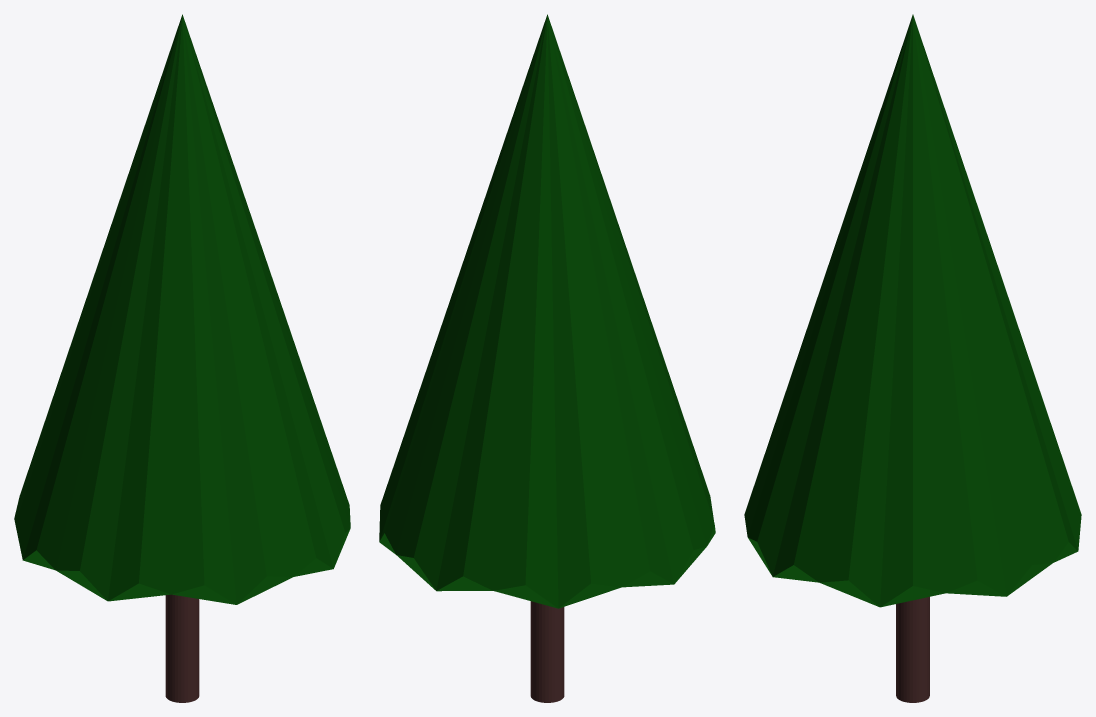
Rendered from fir_1.glb.
3 renders of one model, left to right at view 1: azimuth 30°, elevation 25°; view 2: azimuth 150°, elevation 25°; view 3: azimuth 270°, elevation 25°, orthographic.
Visible parts, largest first — view 1: Cone, Cylinder; view 2: Cone, Cylinder; view 3: Cone, Cylinder.
Boxes of the visible parts, x1,y1,x2,y2 form: Cone: (14, 14, 350, 604); Cylinder: (165, 594, 199, 702); Cone: (379, 14, 715, 608); Cylinder: (530, 601, 564, 702); Cone: (744, 14, 1081, 607); Cylinder: (896, 597, 929, 702).
Bounding box in the file's own units: 3 × 6.69 × 3.
